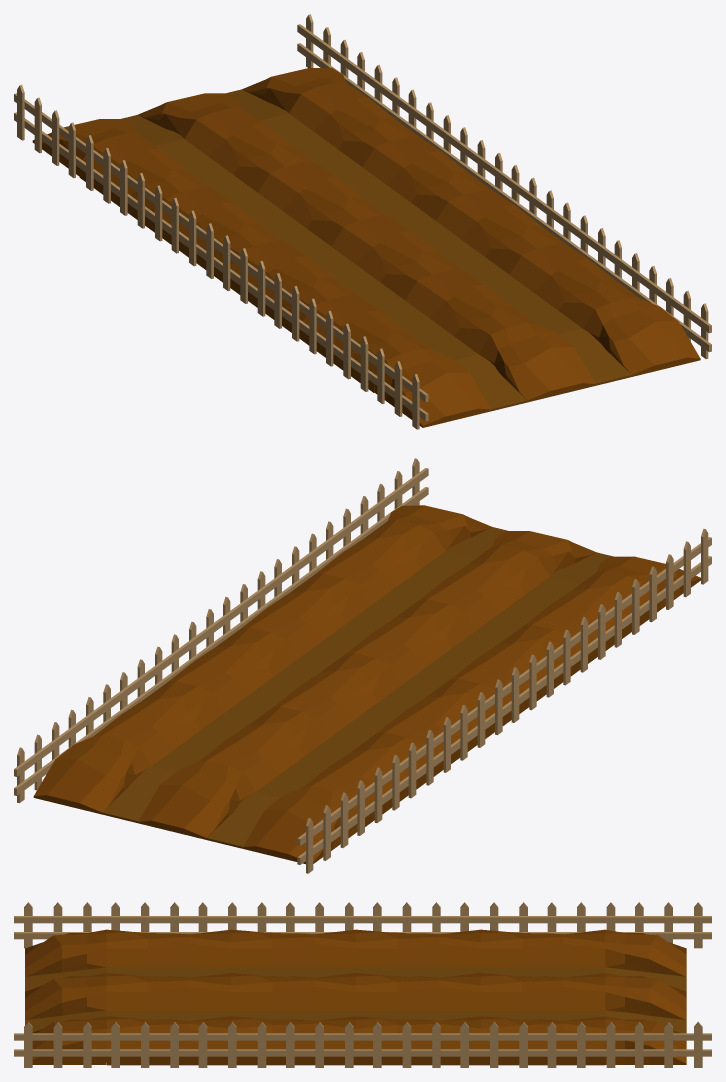
The model's file is sawah.fbx.
3 renders of one model, top to bottom at view 1: azimuth 30°, elevation 25°; view 2: azimuth 150°, elevation 25°; view 3: azimuth 270°, elevation 25°, orthographic. The views are drawn at different scales.
Visible parts, largest first — view 1: sawah tengah.004, Pagar, sawah tengah.001, sawah tengah.002, sawah tengah.005, sawah tengah.007, sawah tengah.006; view 2: sawah tengah.004, Pagar, sawah tengah.001, sawah tengah.005, sawah tengah.002, sawah tengah.006, sawah tengah.007; view 3: sawah tengah.004, Pagar, sawah tengah.001, sawah tengah.002, sawah tengah.005, sawah tengah.006, sawah tengah.007.
Part boxes in pixels (x1,y1,x2,y2): sawah tengah.004: (79, 82, 639, 392); Pagar: (14, 14, 711, 429); sawah tengah.001: (155, 113, 582, 360); sawah tengah.002: (374, 297, 700, 427); sawah tengah.005: (32, 68, 345, 176); sawah tengah.007: (454, 329, 632, 410); sawah tengah.006: (121, 89, 288, 145); sawah tengah.004: (94, 519, 649, 826); Pagar: (14, 458, 711, 873); sawah tengah.001: (151, 551, 579, 797); sawah tengah.005: (33, 735, 357, 864); sawah tengah.002: (388, 505, 700, 612); sawah tengah.006: (101, 766, 279, 848); sawah tengah.007: (446, 527, 613, 583); sawah tengah.004: (106, 929, 605, 1065); Pagar: (14, 902, 711, 1067); sawah tengah.001: (106, 967, 605, 1020); sawah tengah.002: (25, 929, 106, 1064); sawah tengah.005: (605, 929, 686, 1064); sawah tengah.006: (605, 967, 686, 1033); sawah tengah.007: (25, 967, 106, 1031).
Size of the model in its own units: 457 by 80.6 by 1119.
